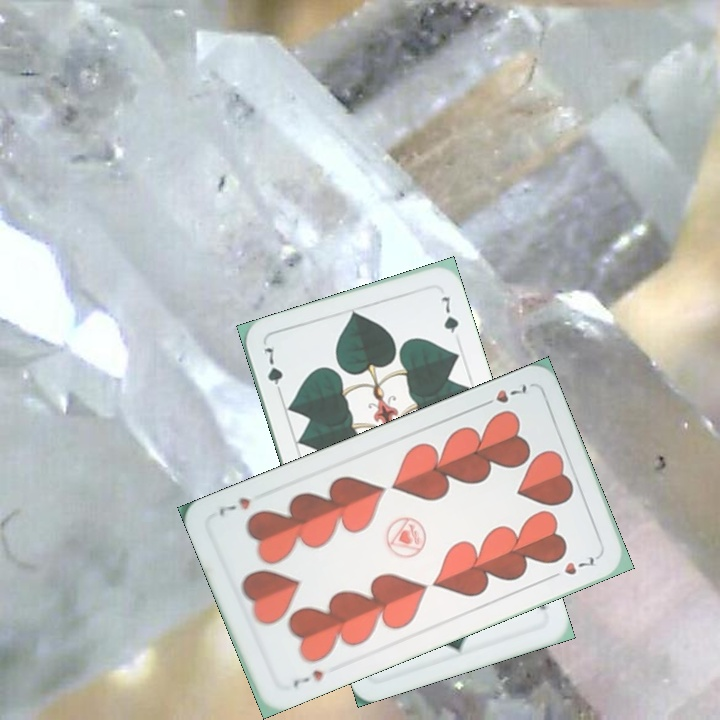G7: (257, 343, 286, 400)
H7: (475, 379, 530, 411), (289, 666, 326, 692)
